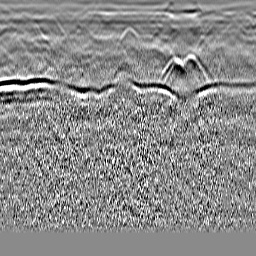cavity: (116, 24, 138, 42)
